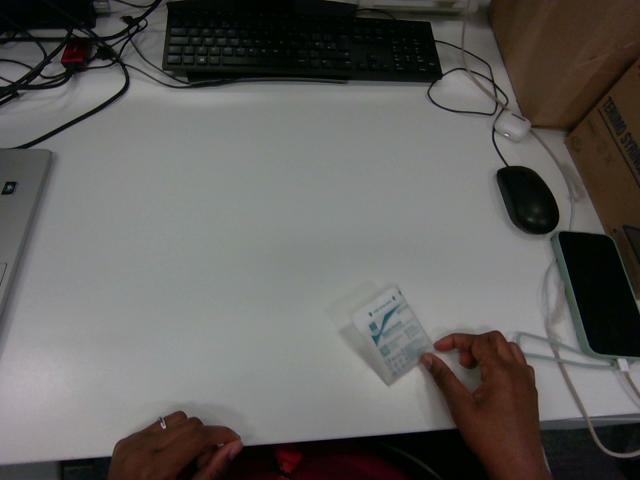gauze: (351, 287, 432, 384)
